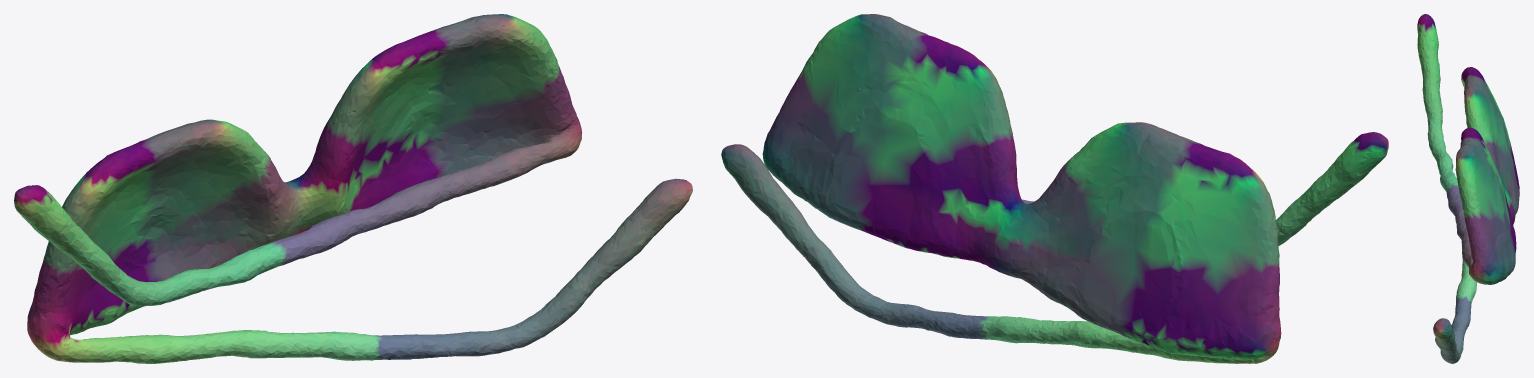
Rendered from glasses-1.off.obj.
The picture shows the model from 3 angles, left to right: view 1: azimuth 30°, elevation 25°; view 2: azimuth 150°, elevation 25°; view 3: azimuth 270°, elevation 25°; orthographic projection. The views are drawn at different scales.
Bounding box in the file's own units: 1.72 × 0.7884 × 0.3535.
